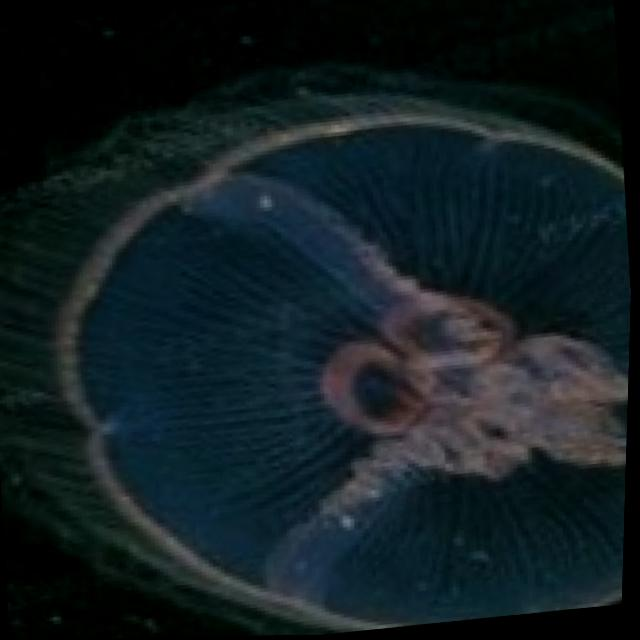Moon-jellyfish: (0, 75, 638, 640)
